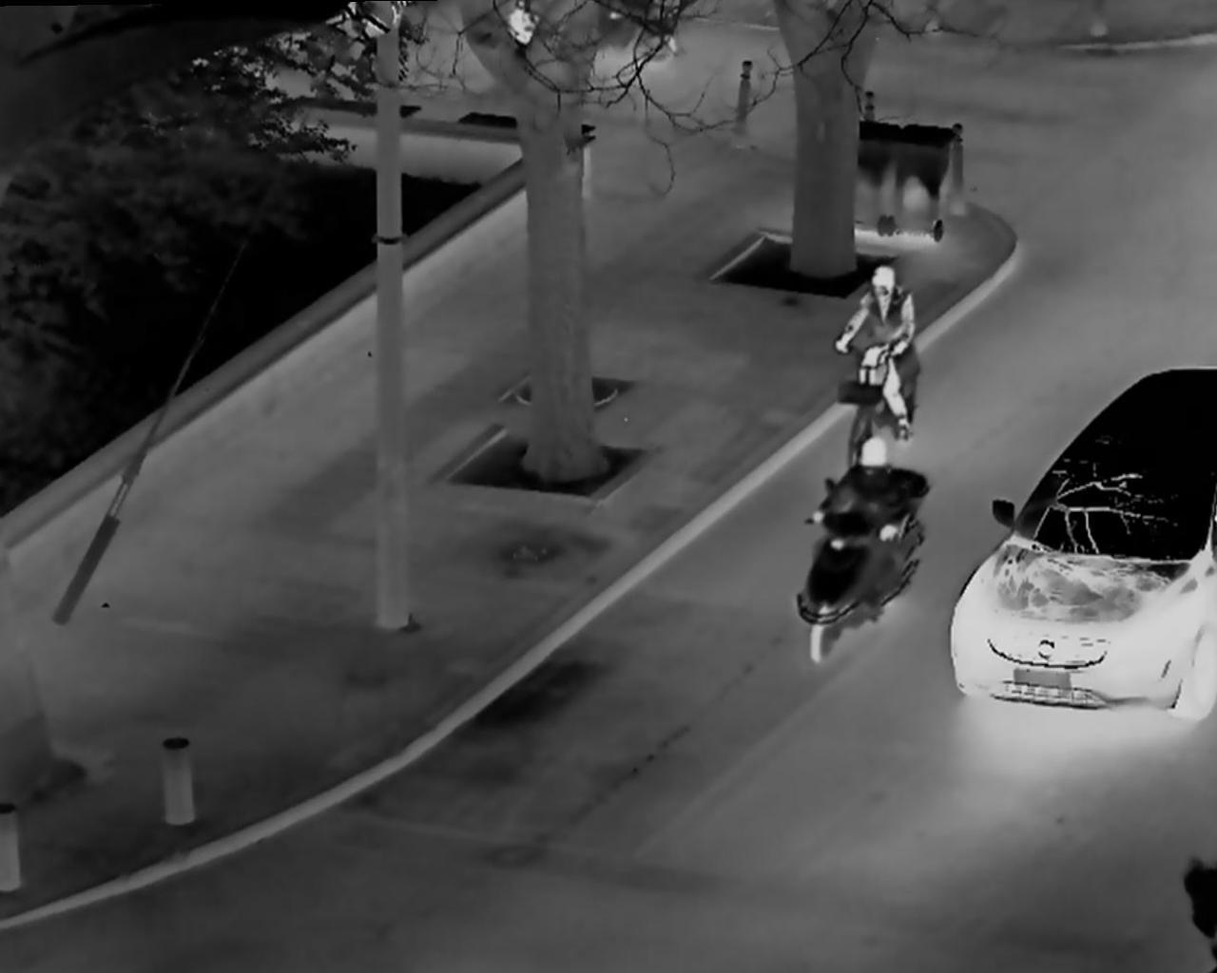person: (828, 242, 955, 455), (816, 431, 916, 659)
